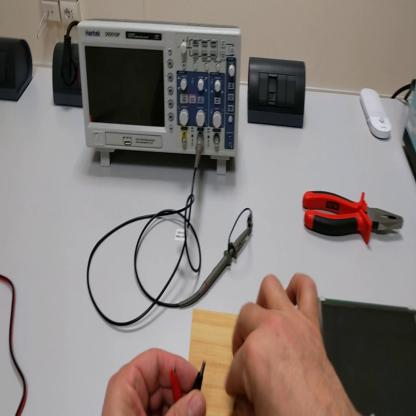hand: (226, 274, 346, 414), (104, 349, 208, 416)
low voltage board: (229, 299, 415, 416)
oscilloscope: (77, 15, 241, 179)
oscilloscope probe tip: (182, 227, 251, 309)
pliers: (302, 186, 405, 246)
socket: (1, 33, 36, 105), (51, 45, 85, 109)
welder base: (405, 85, 416, 181)
working area: (191, 308, 241, 414)
